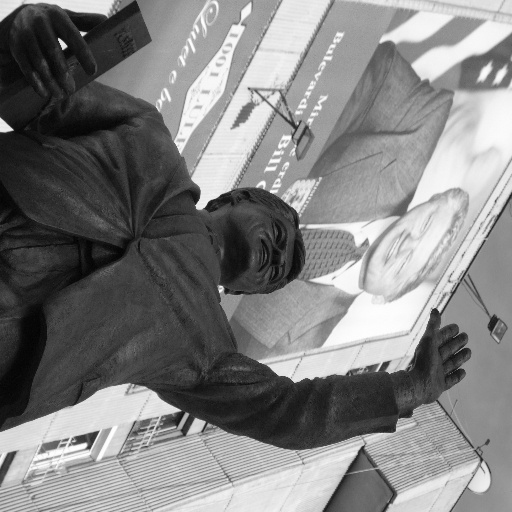hand: (5, 1, 108, 99), (411, 307, 472, 401)
